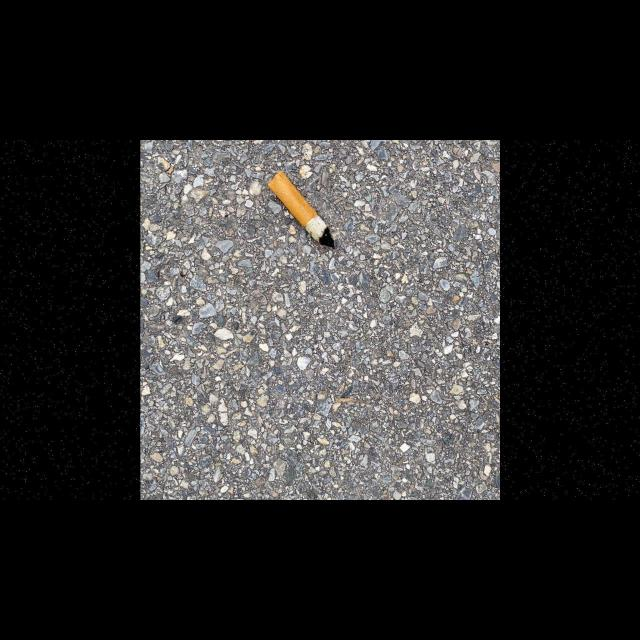cigarette: (266, 170, 337, 250)
